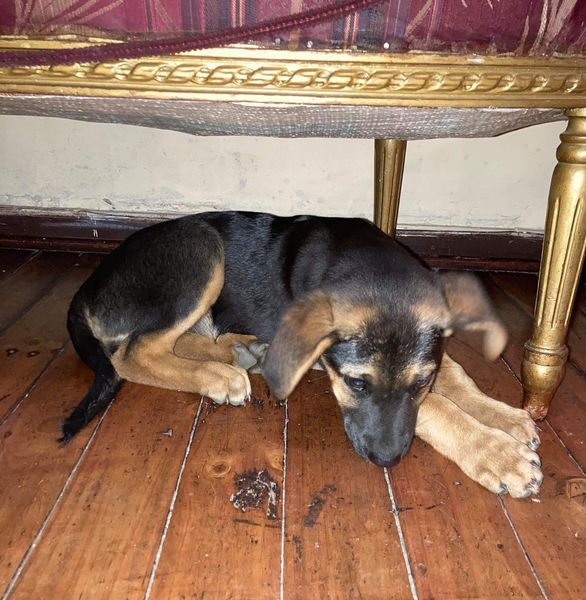dog: (17, 197, 565, 514)
